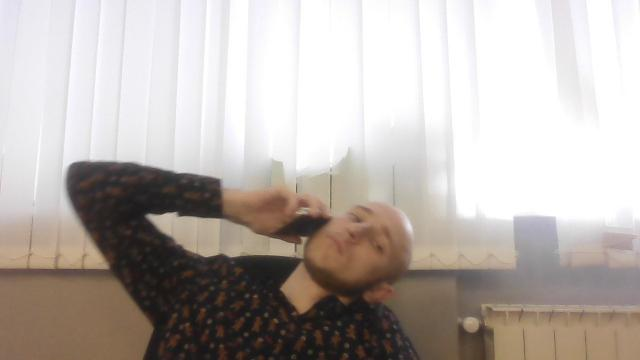Phone: (274, 210, 332, 242)
